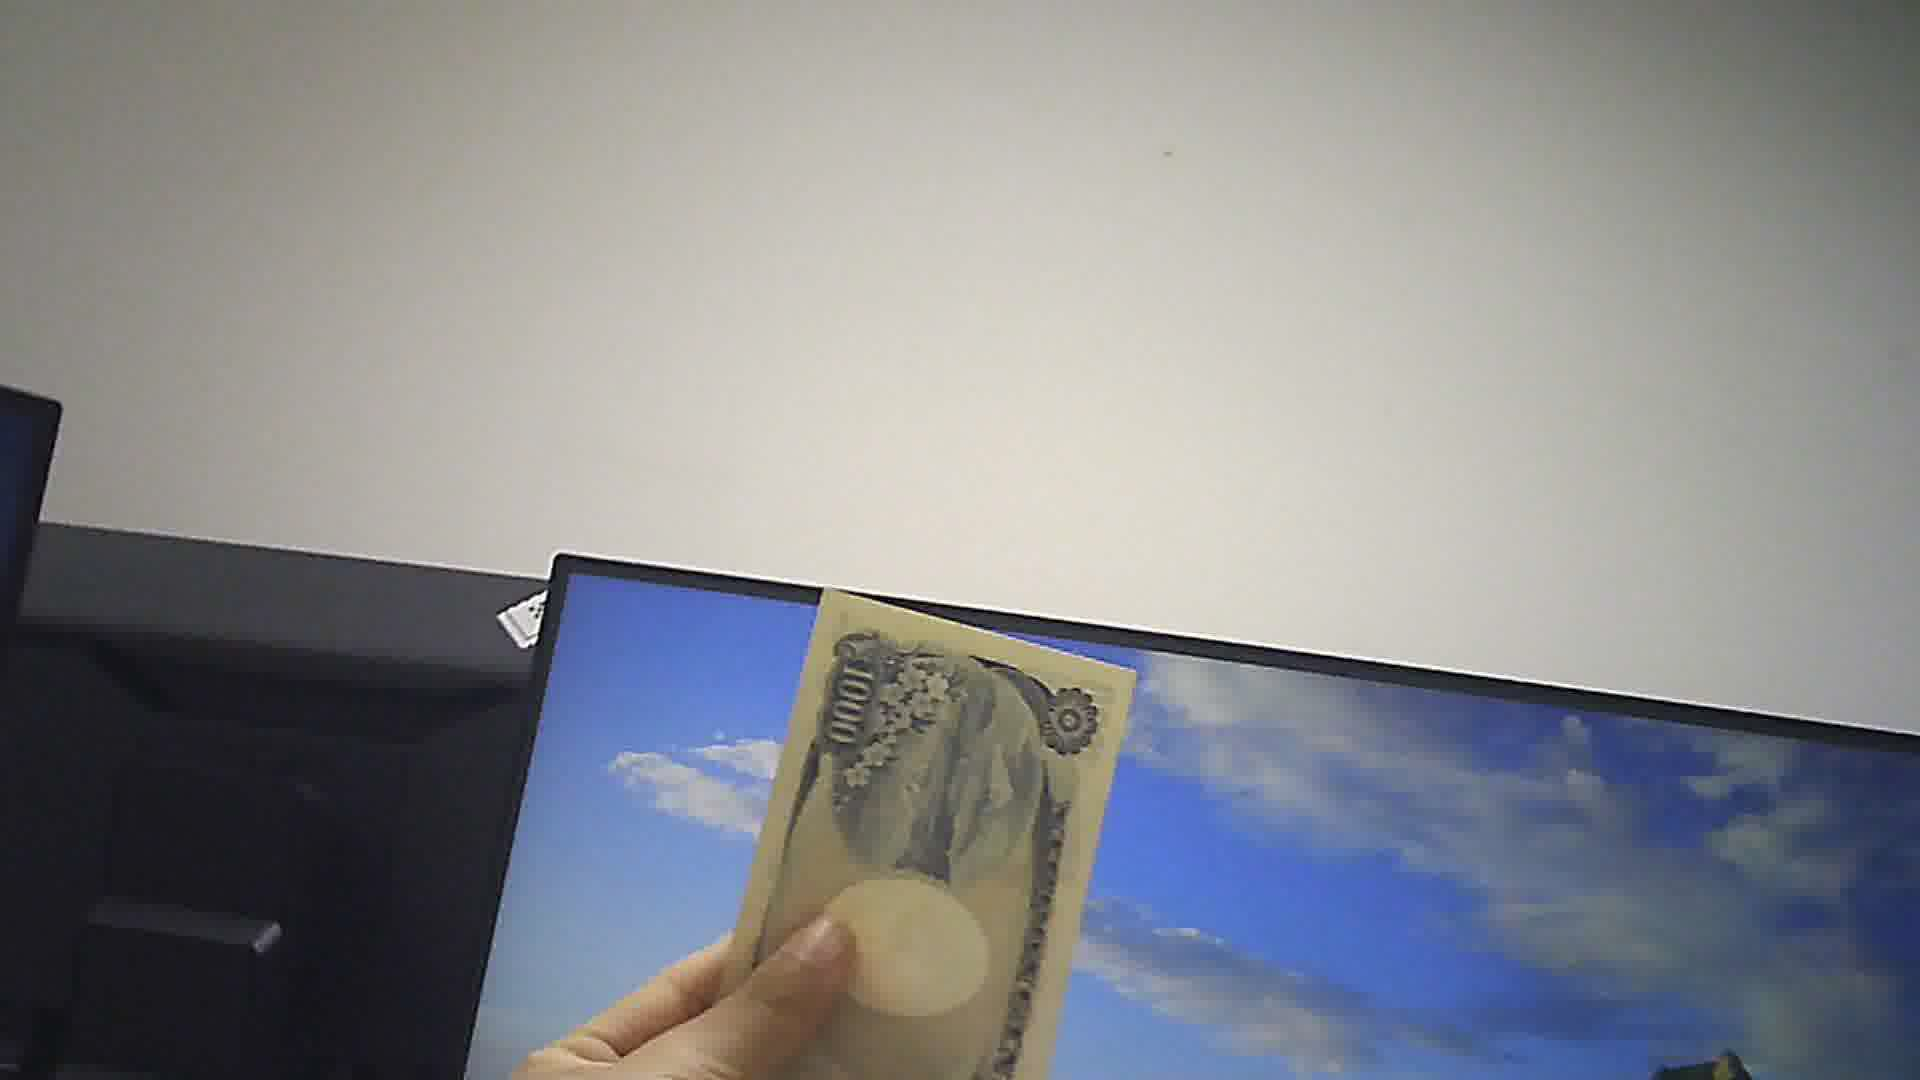1,000 Yen: (711, 585, 1146, 1079)
